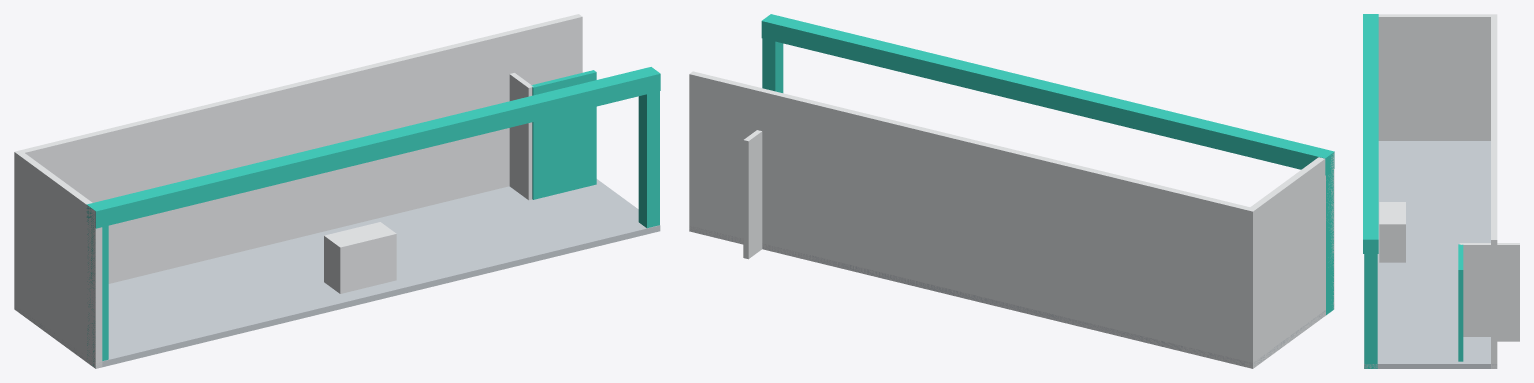
The picture shows the model from 3 angles, left to right: view 1: azimuth 30°, elevation 25°; view 2: azimuth 150°, elevation 25°; view 3: azimuth 270°, elevation 25°; orthographic projection. The views are drawn at different scales.
Parts seen in each view (by area): view 1: Exhibition Booth Concept; view 2: Exhibition Booth Concept; view 3: Exhibition Booth Concept.
Part boxes in pixels (x1,y1,x2,y2): Exhibition Booth Concept: (14,14,660,368); Exhibition Booth Concept: (689,14,1334,368); Exhibition Booth Concept: (1363,14,1519,368).
Bounding box in the file's own units: 12 × 3.2 × 3.52.
